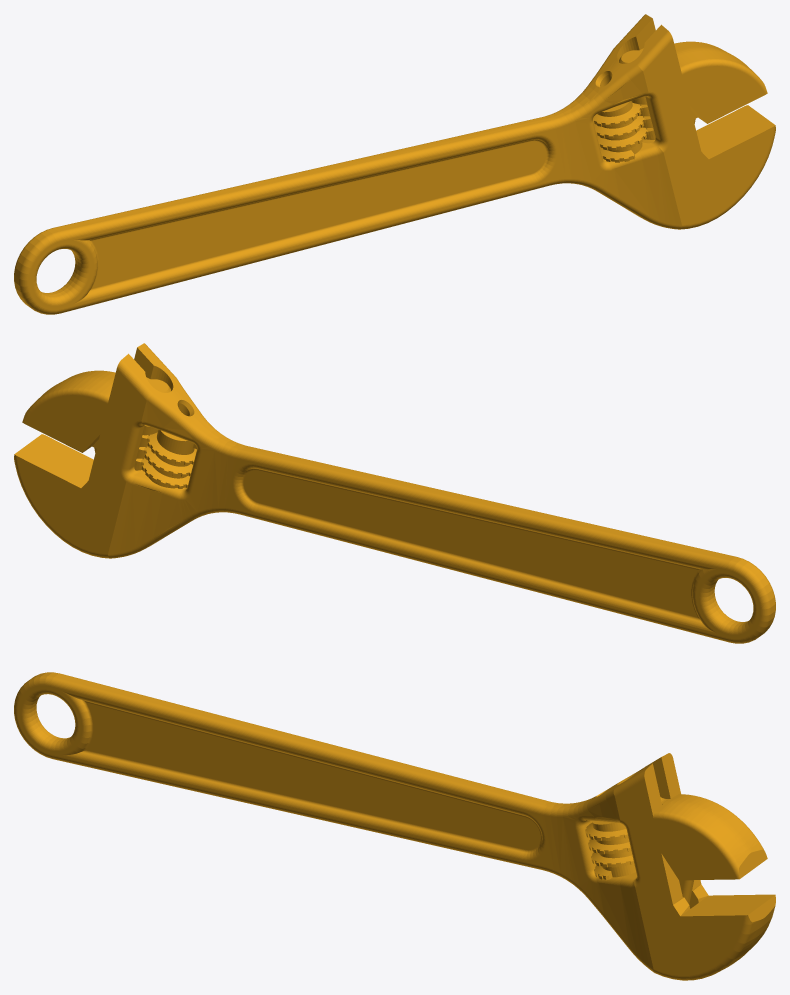
File: adjustable_wrench.obj
3 views of the same model, one above another, from view 1: azimuth 30°, elevation 25°; view 2: azimuth 150°, elevation 25°; view 3: azimuth 330°, elevation 25° (orthographic).
Bounding box in the file's own units: 0.22 × 0.0576 × 0.0145.
